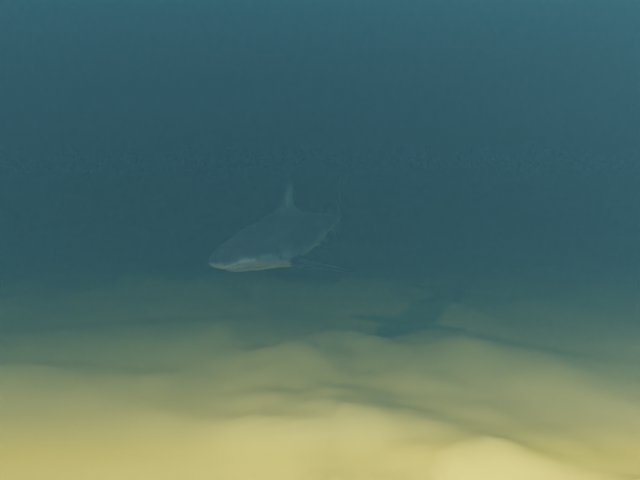Carribean Shark.001: (208, 167, 359, 273)
